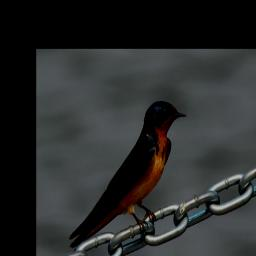Swallow: (68, 100, 188, 252)
